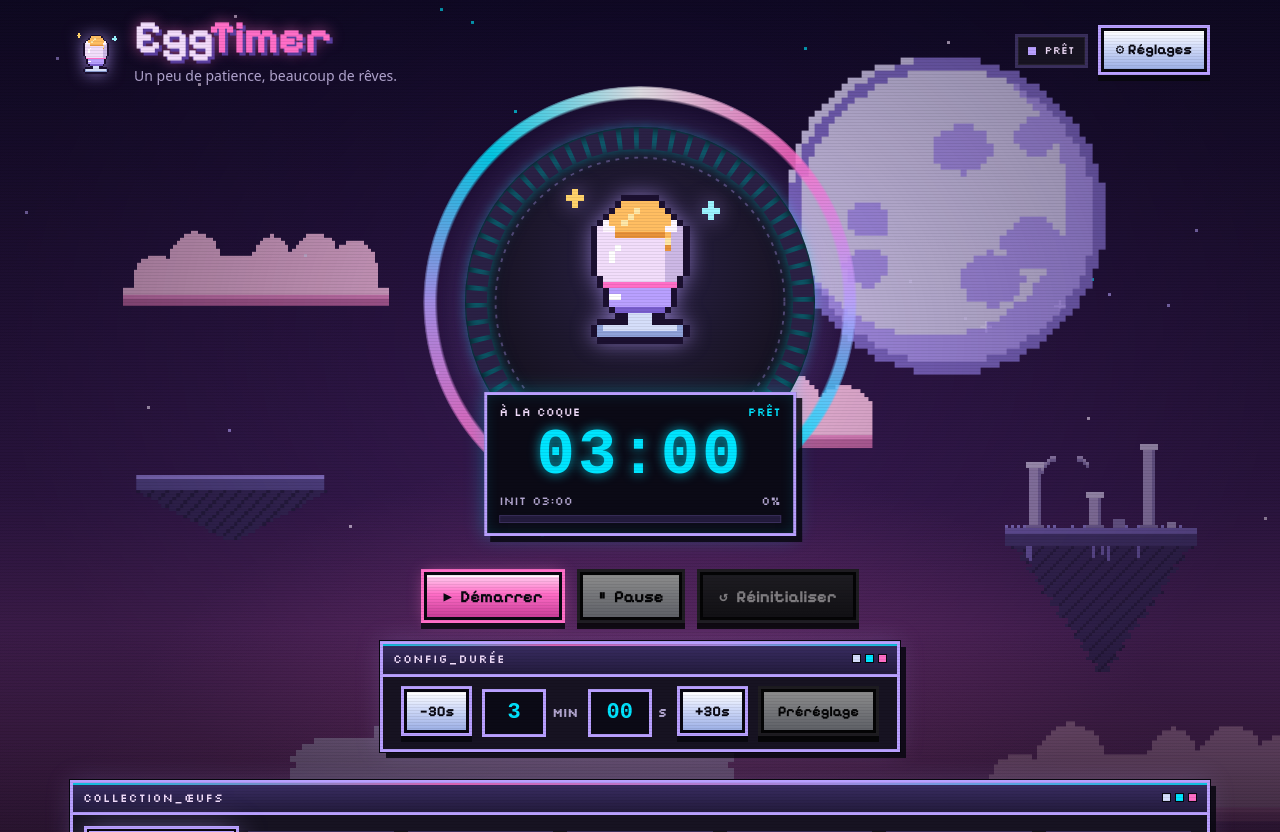
fin de cuisson › le focus reste dans le panneau de fin malgré les rafraîchissements, Échap = choisir un autre œuf
The image size is (1280, 832).
Click the button "▶ Démarrer" at (493, 596), box [424, 572, 562, 620]
Wait 183500 ms
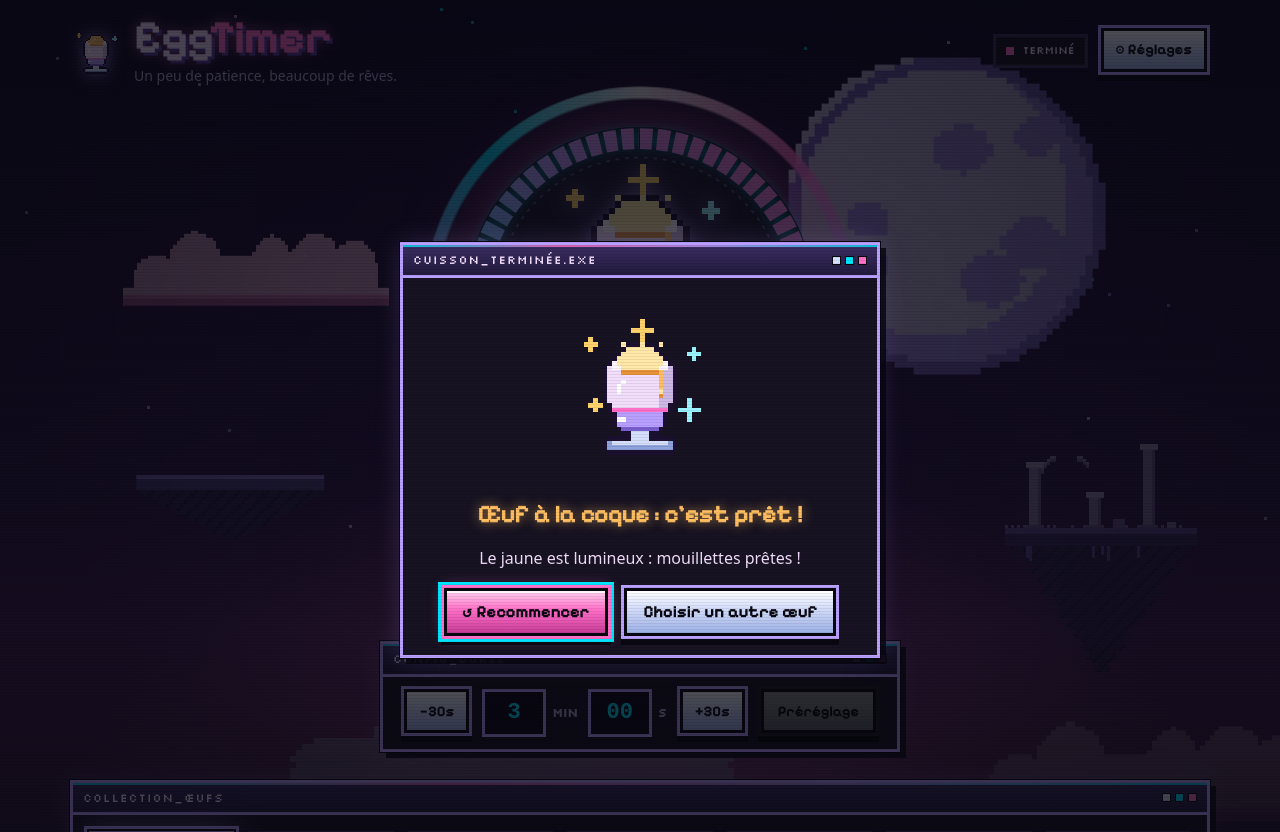
Press Escape
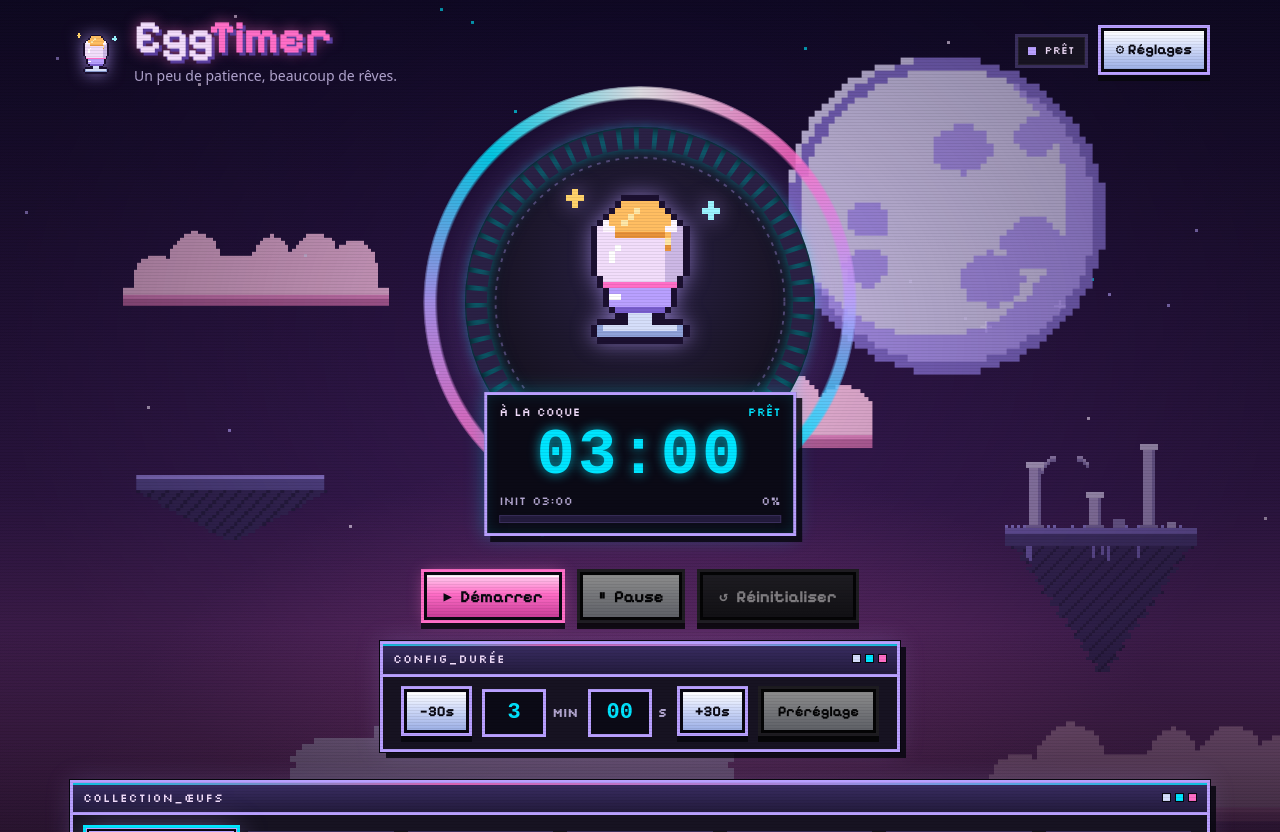
Now the dialog is gone
Now the element showing "PRÊT" is shown, box [1015, 34, 1088, 68]
